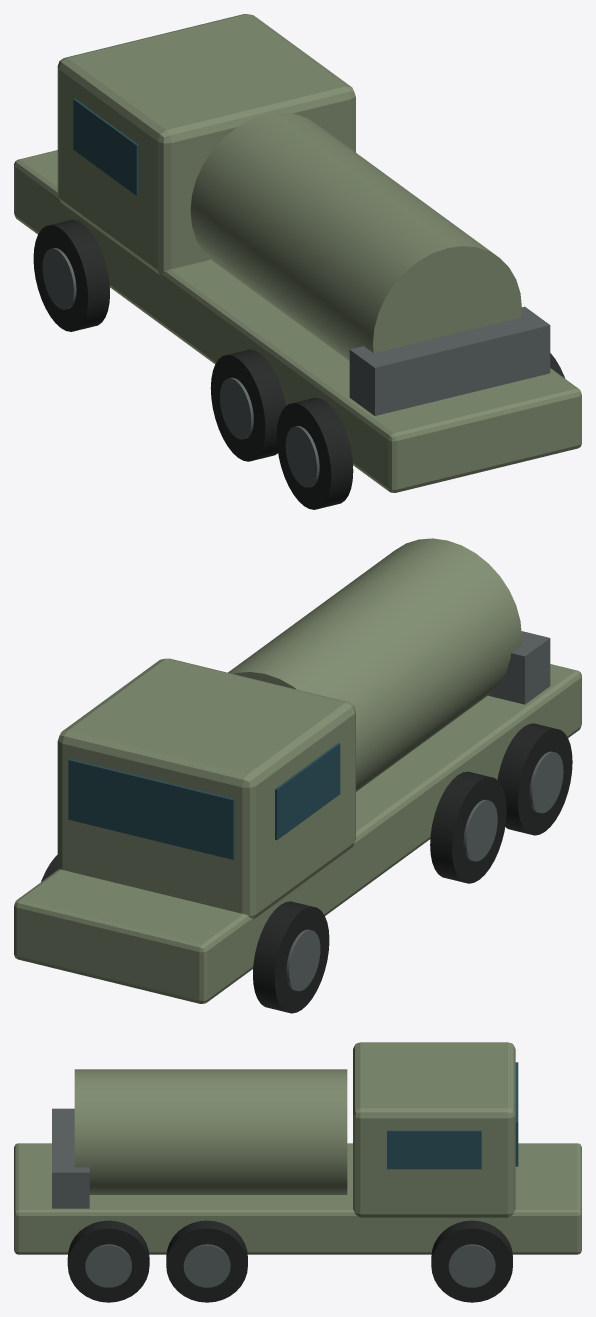
The model's file is k10cbrn.glb.
The picture shows the model from 3 angles, top to bottom: view 1: azimuth 30°, elevation 25°; view 2: azimuth 150°, elevation 25°; view 3: azimuth 270°, elevation 25°; orthographic projection. The views are drawn at different scales.
Parts seen in each view (by area): view 1: Hull_MVP olive paint, RunningGear_MVP rubber, Hull_MVP exposed metal, RunningGear_MVP exposed metal, Hull_MVP optical glass; view 2: Hull_MVP olive paint, RunningGear_MVP rubber, Hull_MVP optical glass, RunningGear_MVP exposed metal, Hull_MVP exposed metal; view 3: Hull_MVP olive paint, RunningGear_MVP rubber, RunningGear_MVP exposed metal, Hull_MVP optical glass, Hull_MVP exposed metal.
Part boxes in pixels (x1,y1,x2,y2): Hull_MVP olive paint: (14, 14, 581, 492); RunningGear_MVP rubber: (33, 219, 564, 509); Hull_MVP exposed metal: (349, 306, 550, 415); RunningGear_MVP exposed metal: (42, 248, 319, 487); Hull_MVP optical glass: (73, 98, 138, 195); Hull_MVP olive paint: (14, 538, 581, 1003); RunningGear_MVP rubber: (41, 723, 572, 1013); Hull_MVP optical glass: (68, 743, 340, 859); RunningGear_MVP exposed metal: (286, 751, 563, 991); Hull_MVP exposed metal: (488, 631, 550, 704); Hull_MVP olive paint: (14, 1042, 581, 1254); RunningGear_MVP rubber: (67, 1220, 512, 1302); RunningGear_MVP exposed metal: (85, 1244, 495, 1287); Hull_MVP optical glass: (387, 1062, 518, 1169); Hull_MVP exposed metal: (52, 1108, 89, 1208).
Size of the model in its own units: 2.81 by 2.67 by 7.5.
